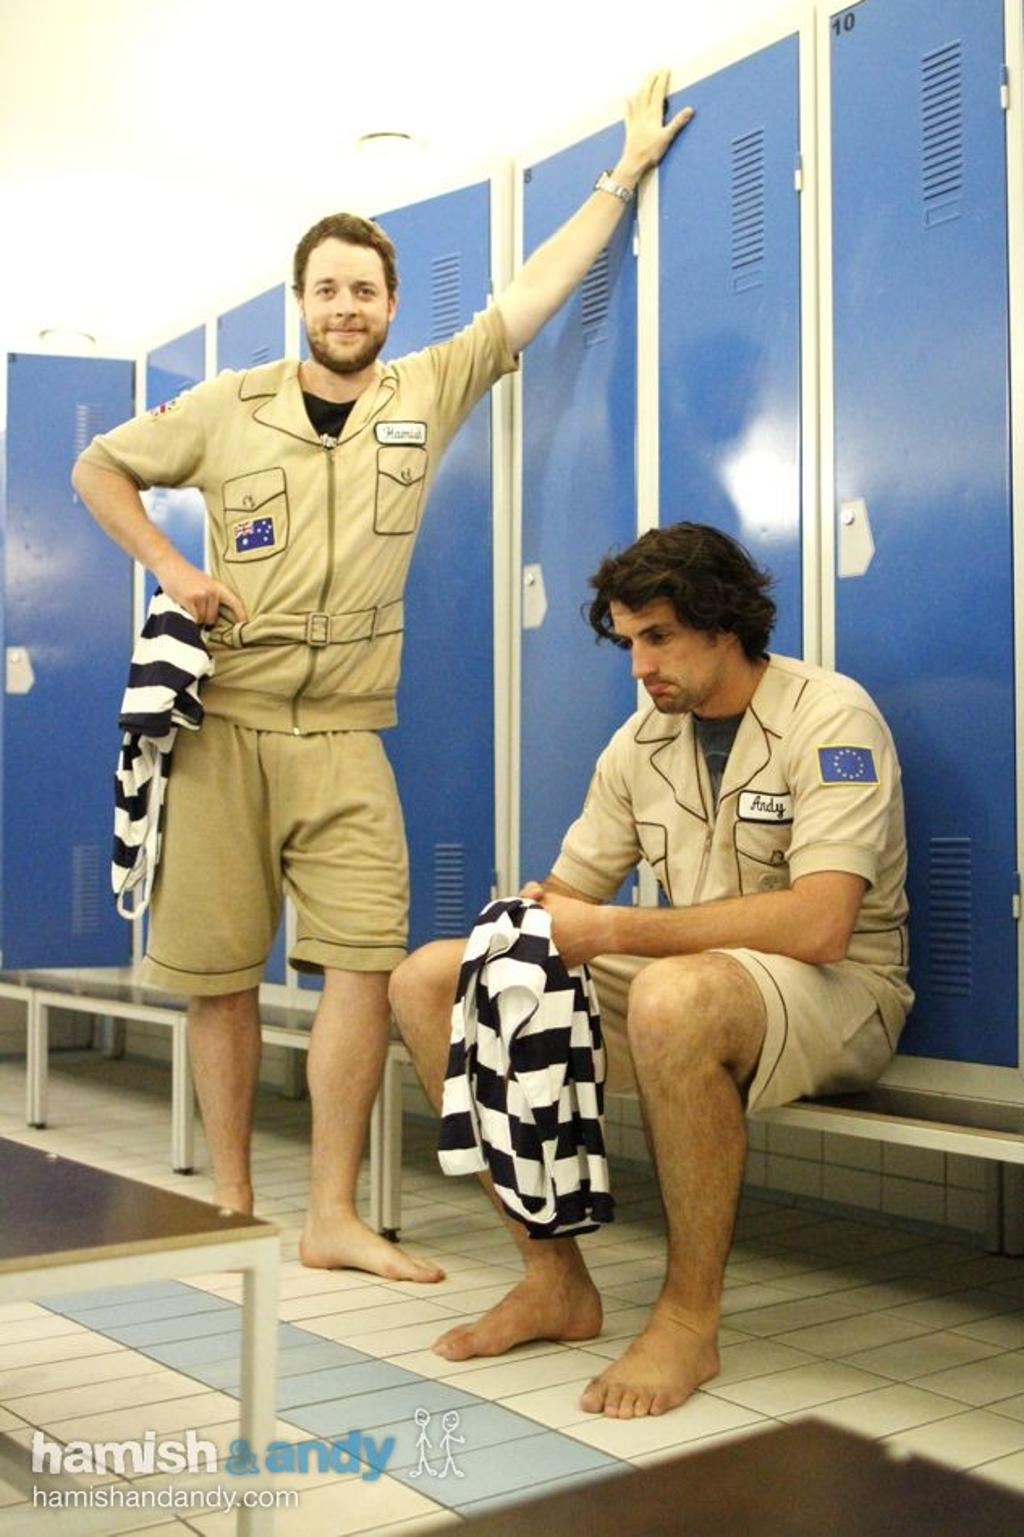face: (610, 583, 718, 715), (309, 243, 393, 366)
